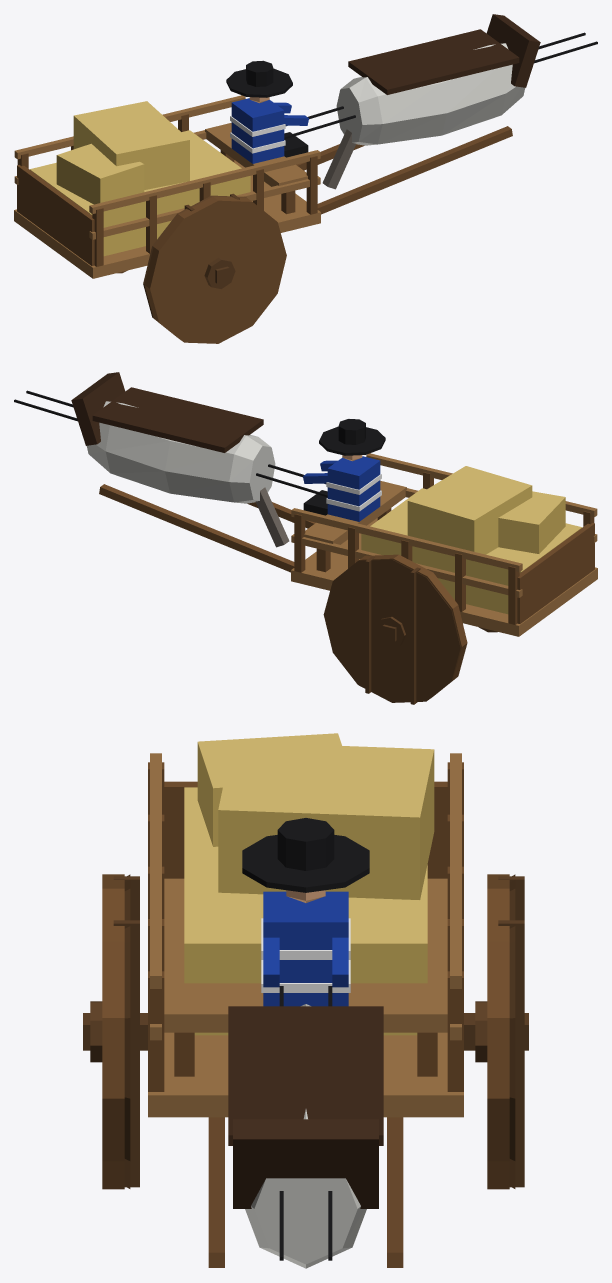
File: carreta_percheron_body.obj
The picture shows the model from 3 angles, top to bottom: view 1: azimuth 30°, elevation 25°; view 2: azimuth 150°, elevation 25°; view 3: azimuth 270°, elevation 25°; orthographic projection. The views are drawn at different scales.
Parts seen in each view (by area): view 1: carreta_percheron_body; view 2: carreta_percheron_body; view 3: carreta_percheron_body.
Boxes of the visible parts, left/top/right/bottom form: carreta_percheron_body: left=14, top=14, right=597, bottom=343; carreta_percheron_body: left=14, top=372, right=597, bottom=704; carreta_percheron_body: left=83, top=733, right=528, bottom=1268.
Bounding box in the file's own units: 6.13 × 2.37 × 2.2.
